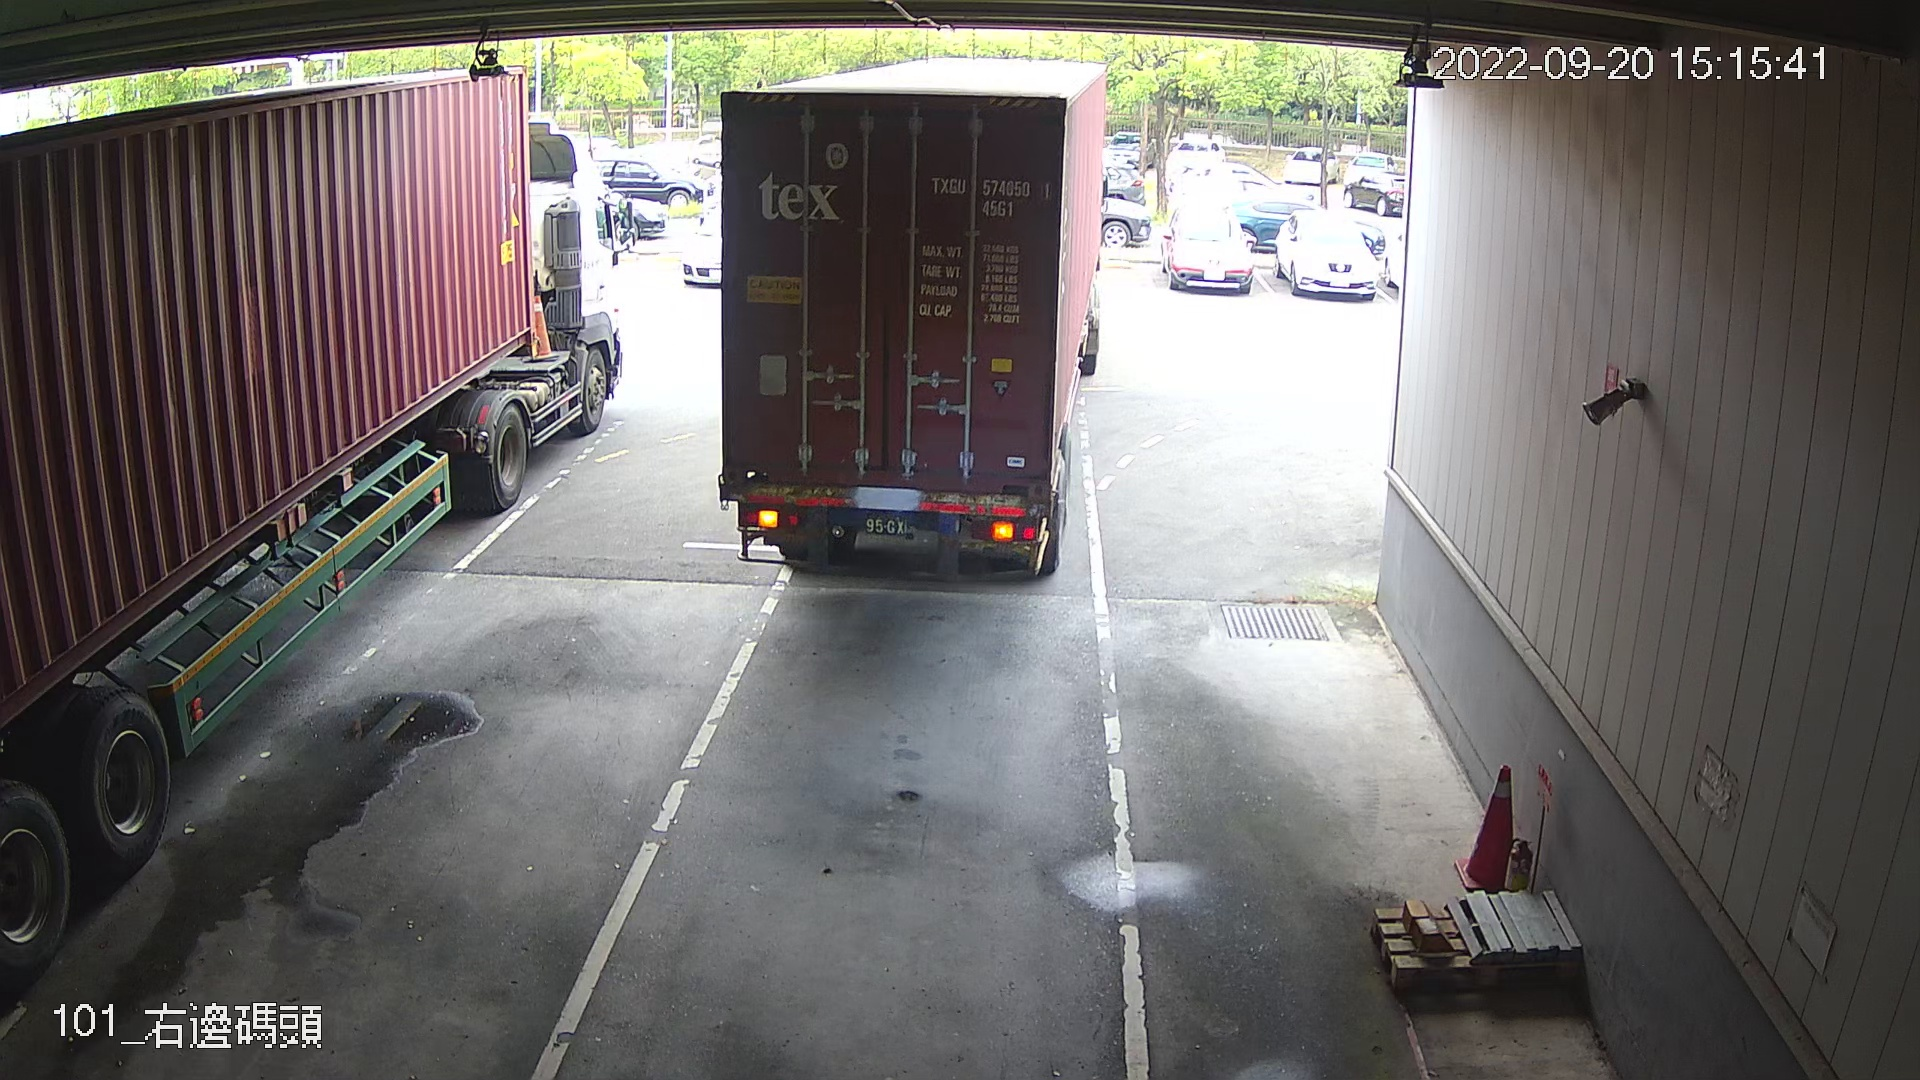container: (926, 167, 1056, 224)
